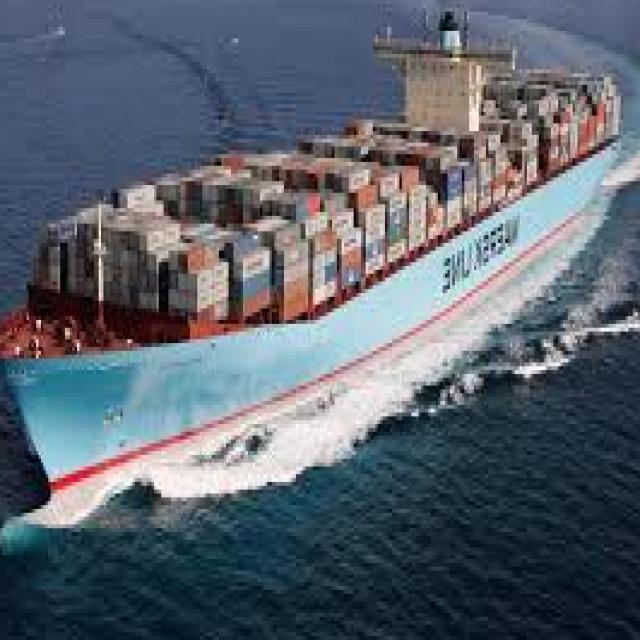cargoship: (7, 12, 621, 524)
